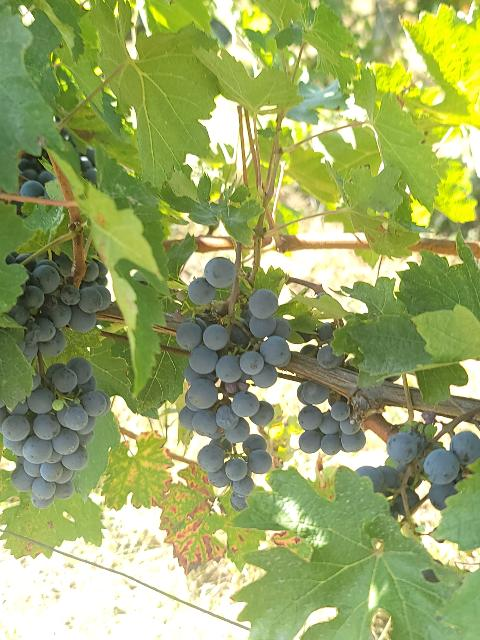grapes: (176, 289, 291, 511), (0, 358, 110, 509), (9, 254, 111, 356), (298, 380, 366, 455), (301, 344, 342, 369), (318, 322, 335, 342)
